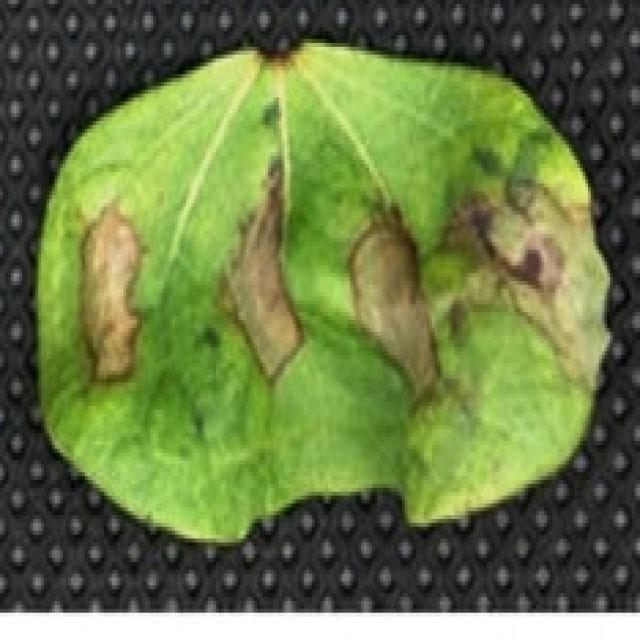Fusarium Wilt: (65, 181, 575, 408)
